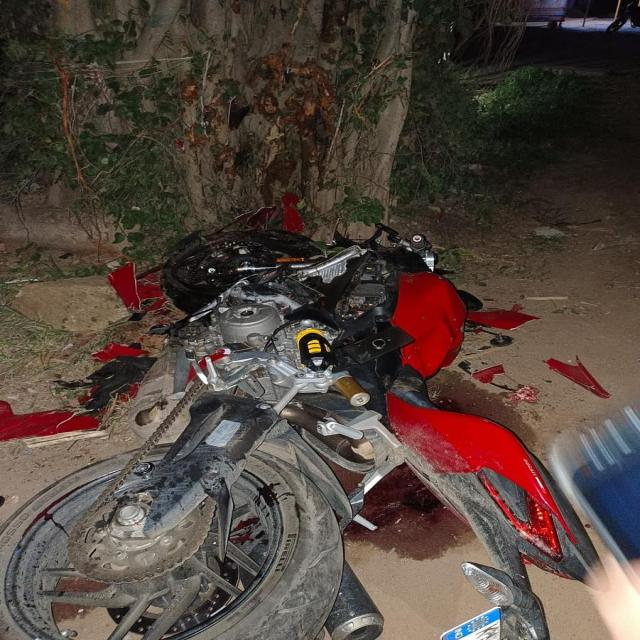accident: (2, 224, 598, 640)
